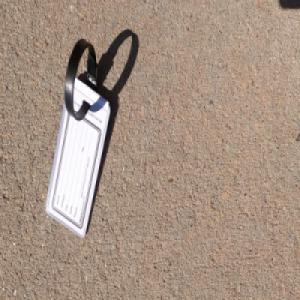LuggageTag: (44, 36, 111, 239)
